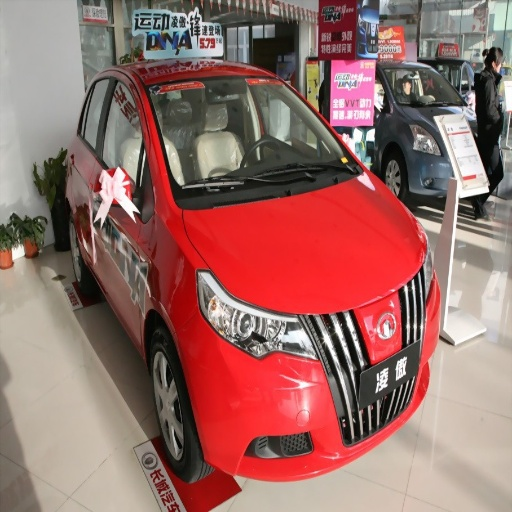front_bumper: (179, 288, 420, 487)
front_left_light: (368, 360, 410, 426), (401, 268, 433, 348)
front_right_door: (101, 72, 153, 330)
front_right_light: (200, 273, 318, 361)
